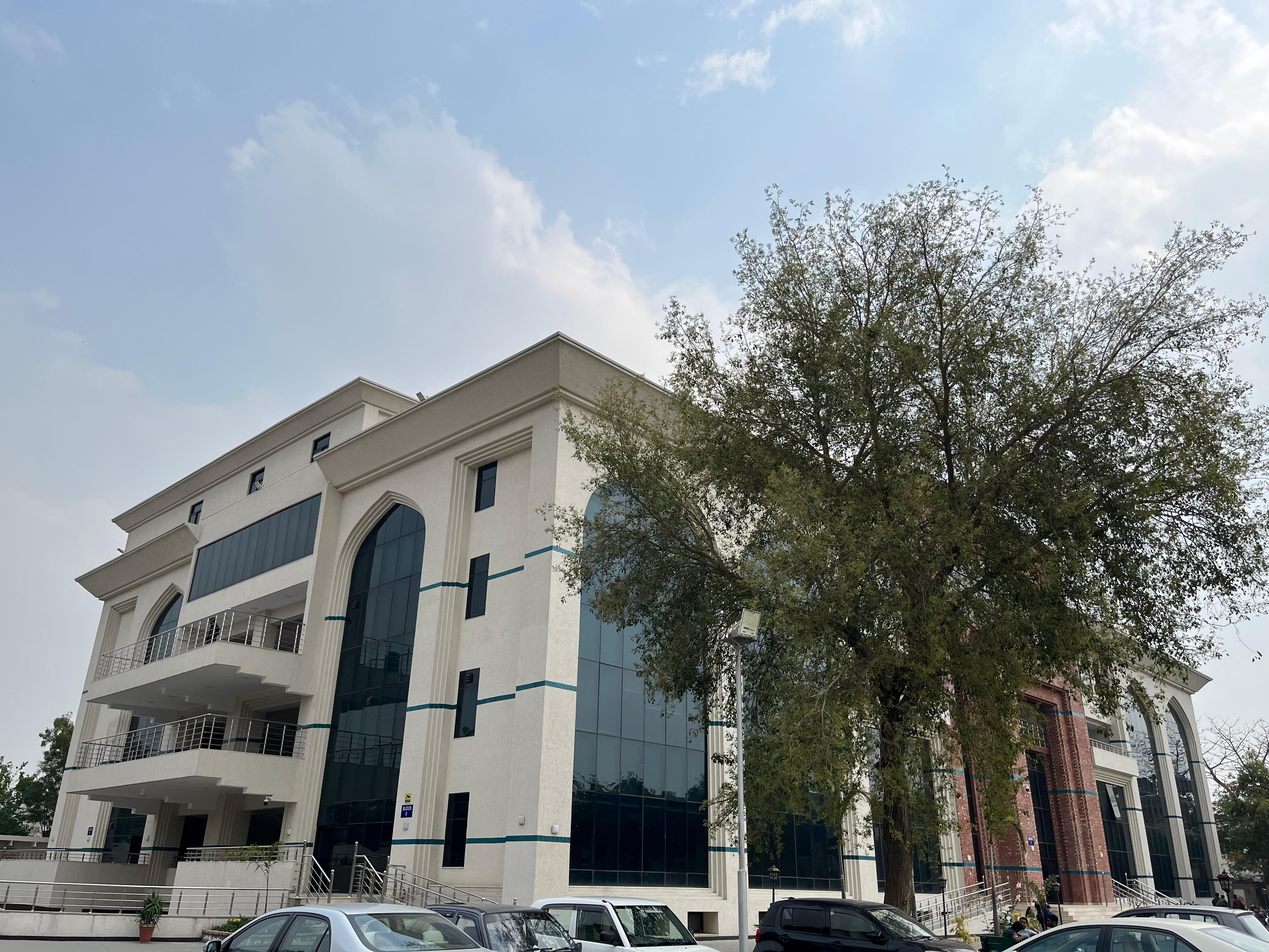Block F: (51, 331, 1250, 910)
